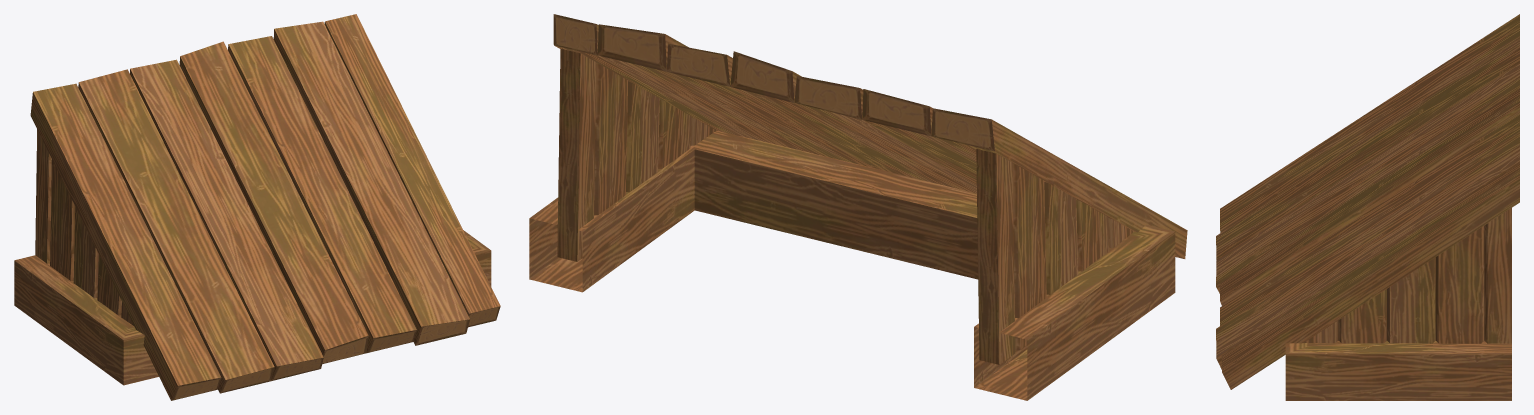
File: Roof_Wooden_2x1.glb
The picture shows the model from 3 angles, left to right: view 1: azimuth 30°, elevation 25°; view 2: azimuth 150°, elevation 25°; view 3: azimuth 270°, elevation 25°; orthographic projection. The views are drawn at different scales.
Parts seen in each view (by area): view 1: Roof_Wooden_2x1; view 2: Roof_Wooden_2x1; view 3: Roof_Wooden_2x1.
Boxes of the visible parts, left/top/right/bottom form: Roof_Wooden_2x1: left=14, top=14, right=500, bottom=400; Roof_Wooden_2x1: left=529, top=14, right=1187, bottom=400; Roof_Wooden_2x1: left=1216, top=14, right=1519, bottom=400.
Bounding box in the file's own units: 2.26 × 1.25 × 1.56.
1 material, 1 textured.
